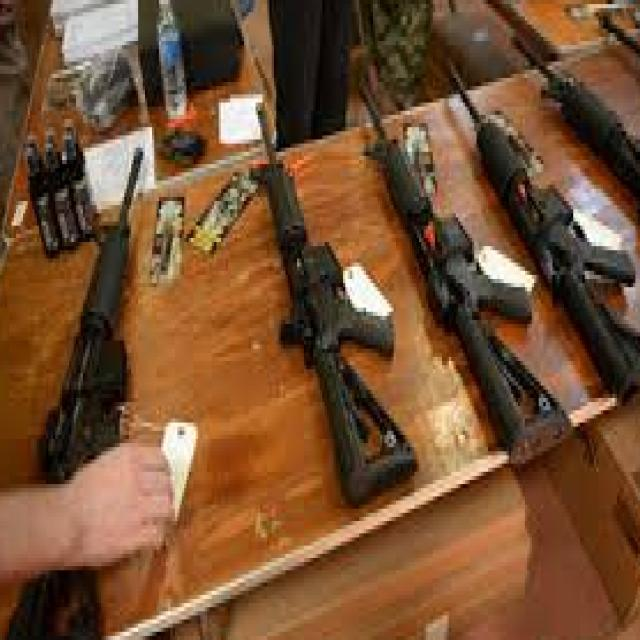gun: (0, 106, 179, 640), (349, 42, 572, 470), (235, 64, 426, 521), (433, 17, 640, 406), (509, 12, 640, 218)
